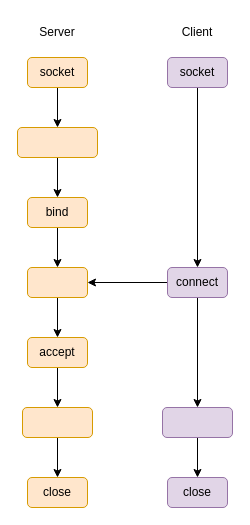
Image size: 250x525. Some labels were removed from this diagram. Each missing label, with the box of its shape:
listen: (26, 266, 88, 298)
read / send: (22, 406, 92, 438)
send / read: (162, 406, 232, 438)
setsocketopt: (16, 126, 98, 158)
